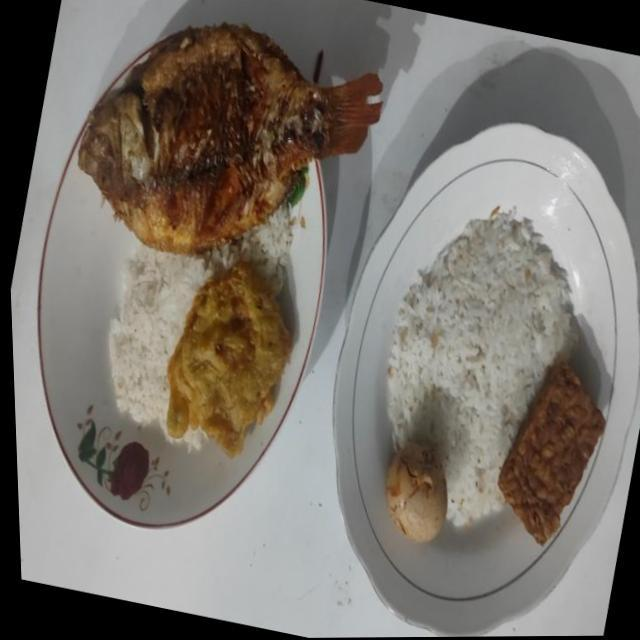ikan_mujair: (78, 23, 382, 253)
nasi_putih: (387, 210, 576, 526), (108, 206, 291, 435)
tempe_goreng: (498, 362, 604, 545)
